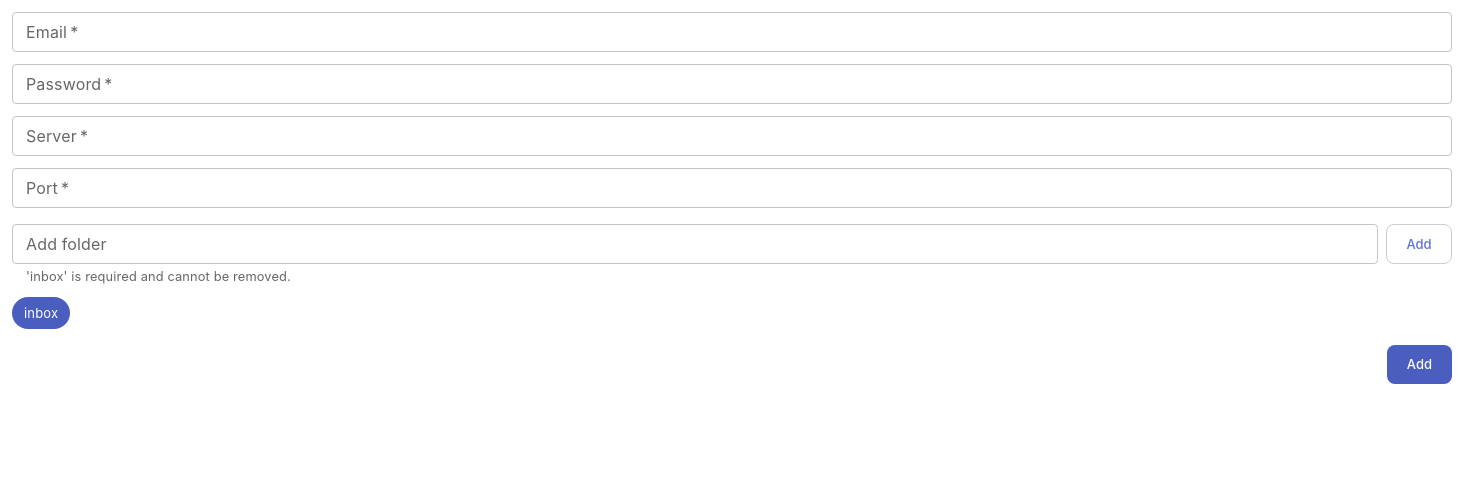
CreateImapForm › shows validation errors when submitted with empty fields
The width and height of the screenshot is (1464, 496).
Click the 2nd button "Add": [1419, 365] box [1387,345,1452,384]
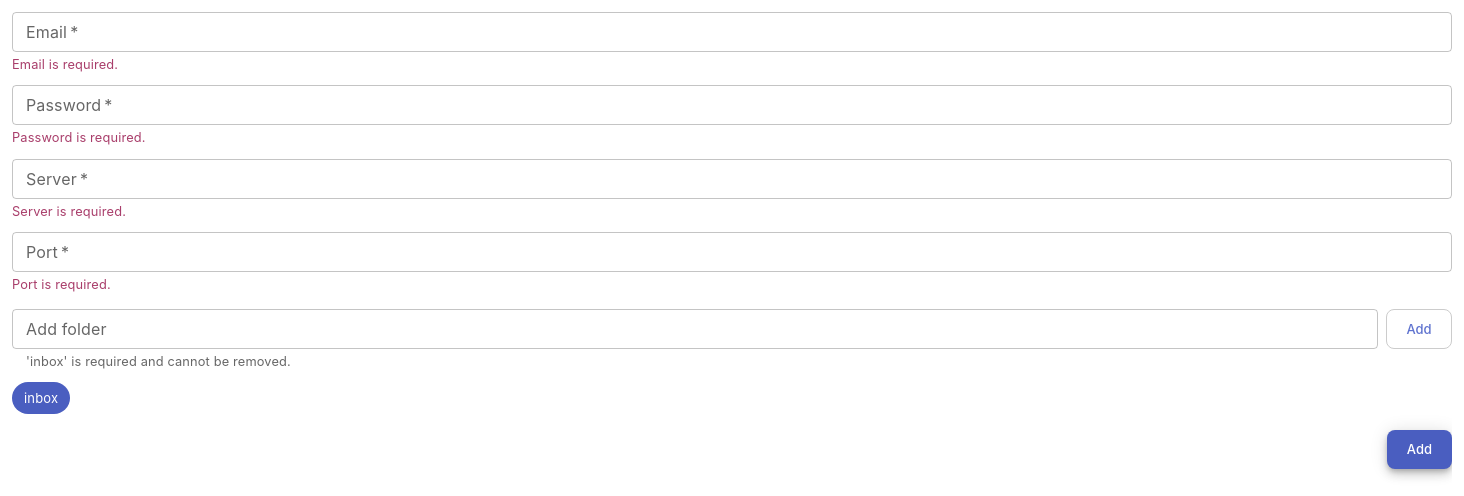
Check: the text "Email is required." is shown, box [12,57,118,72]
Check: the text "Password is required." is shown, box [12,130,146,145]
Check: the text "Server is required." is shown, box [12,204,126,218]
